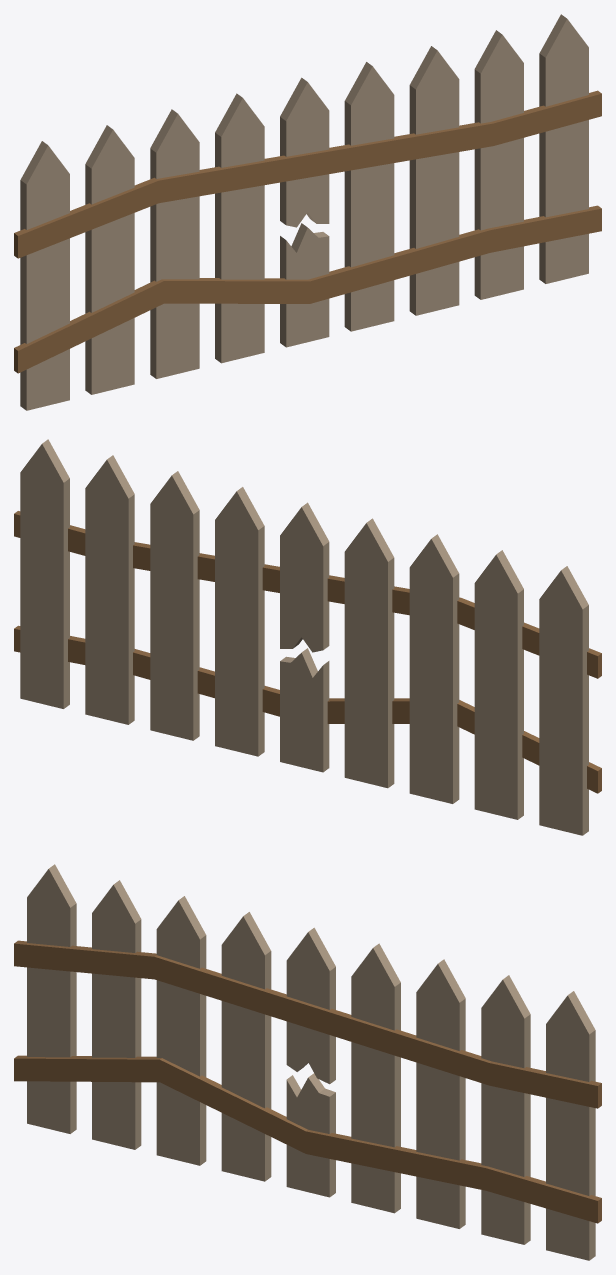
File: Fence_2.fbx
3 views of the same model, one above another, from view 1: azimuth 30°, elevation 25°; view 2: azimuth 150°, elevation 25°; view 3: azimuth 330°, elevation 25° (orthographic).
Parts seen in each view (by area): view 1: Plane.001; view 2: Plane.001; view 3: Plane.001.
Boxes of the visible parts, x1,y1,x2,y2 form: Plane.001: (14,14,601,410); Plane.001: (14,439,601,835); Plane.001: (14,864,601,1260).
Size of the model in its own units: 5.4 by 2.3 by 0.1359.
